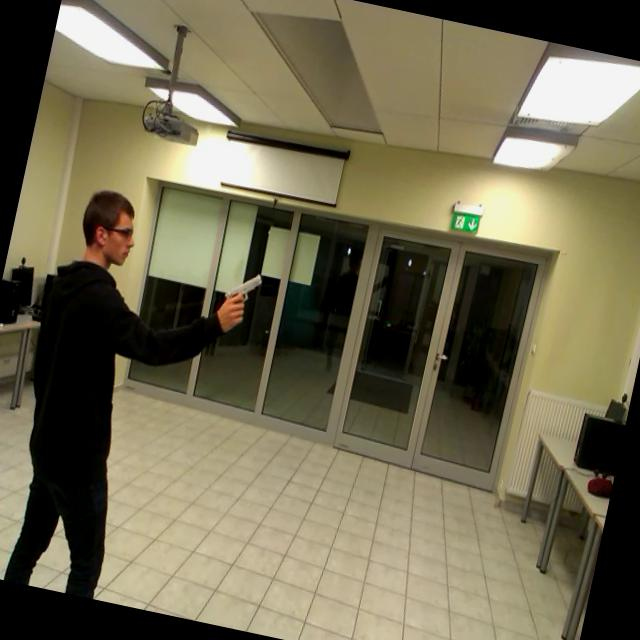handgun: (216, 262, 272, 334)
